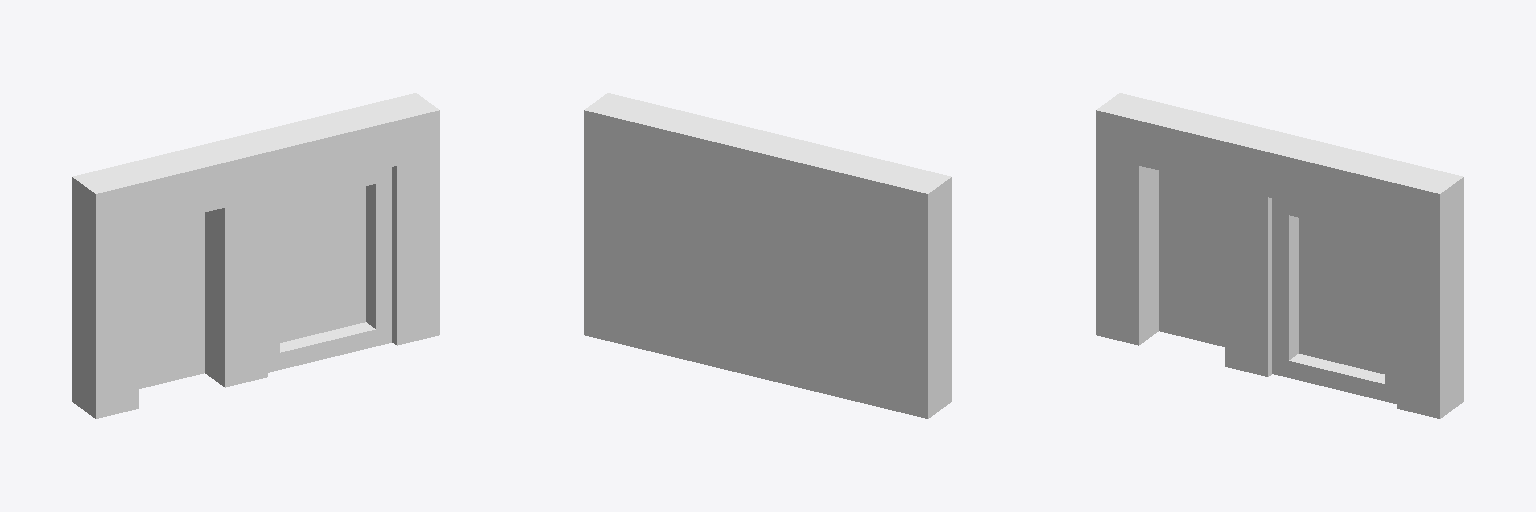
File: window_door.obj
3 renders of one model, left to right at view 1: azimuth 30°, elevation 25°; view 2: azimuth 150°, elevation 25°; view 3: azimuth 330°, elevation 25°, orthographic.
Visible parts, largest first — view 1: building-door-window, window-brown-large; view 2: building-door-window; view 3: building-door-window, window-brown-large.
Part boxes in pixels (x1,y1,x2,y2): building-door-window: (72,93,439,418); window-brown-large: (268,167,391,372); building-door-window: (584,93,951,418); building-door-window: (1096,93,1463,418); window-brown-large: (1272,198,1396,403).
Size of the model in its own units: 1 by 0.625 by 0.1198.